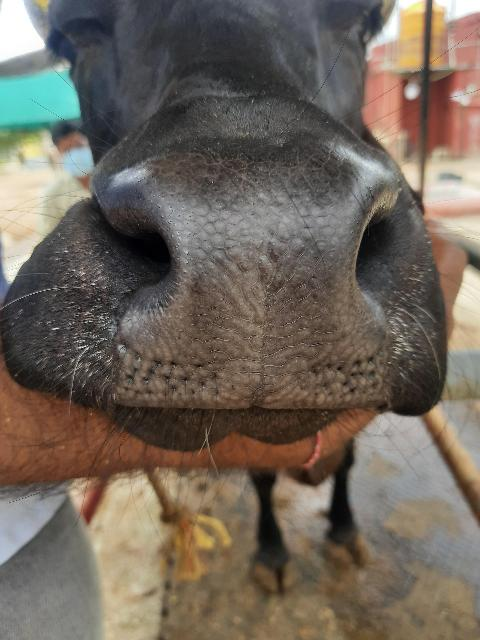Muzzle: (140, 162, 372, 404)
